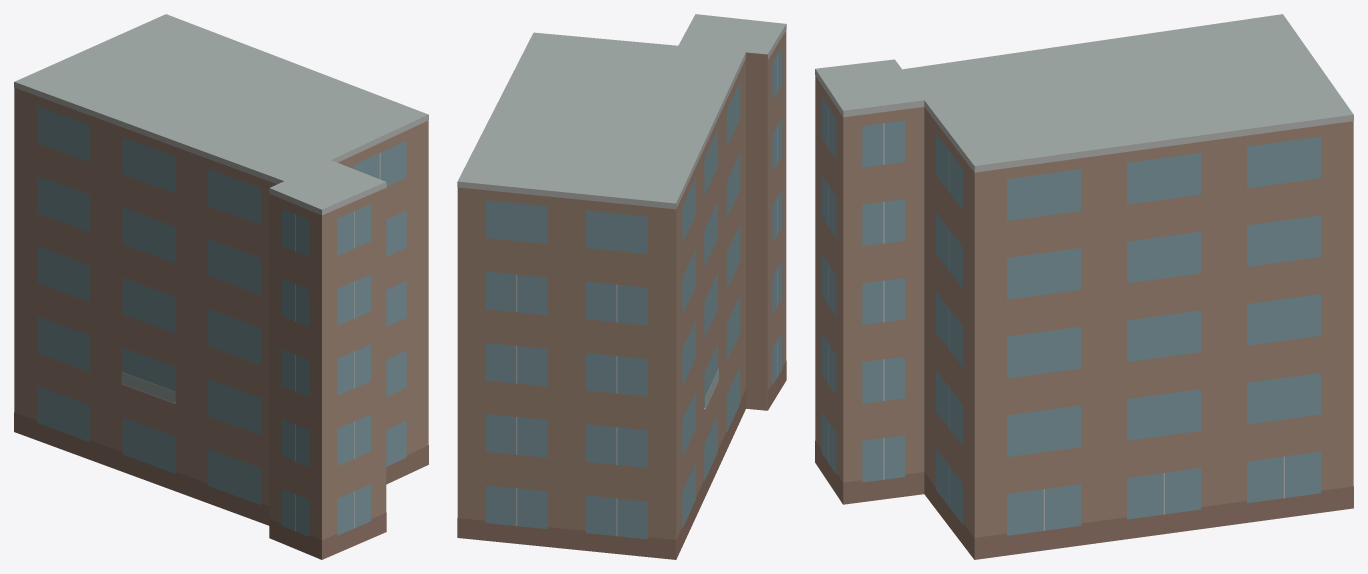
Rendered from survey-upis-32457780.glb.
3 views of the same model, side by side, from view 1: azimuth 30°, elevation 25°; view 2: azimuth 150°, elevation 25°; view 3: azimuth 270°, elevation 25° (orthographic). The views are drawn at different scales.
Parts seen in each view (by area): view 1: survey-upis-32457780.tmp; view 2: survey-upis-32457780.tmp; view 3: survey-upis-32457780.tmp.
Part boxes in pixels (x1,y1,x2,y2): survey-upis-32457780.tmp: (14, 14, 428, 559); survey-upis-32457780.tmp: (457, 14, 786, 559); survey-upis-32457780.tmp: (815, 14, 1353, 559).
Size of the model in its own units: 12.36 by 14.9 by 18.49.
